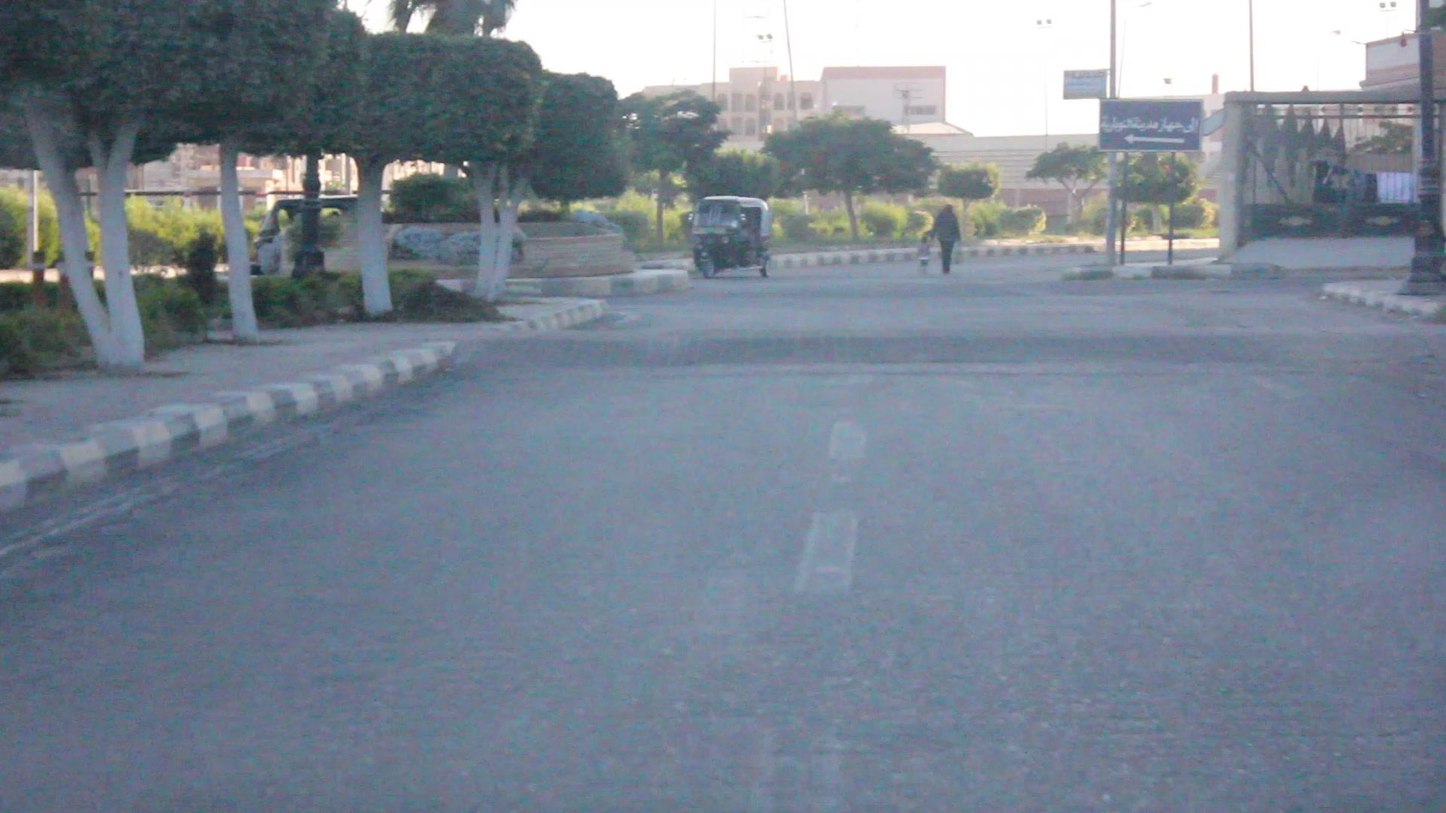Bump: (443, 326, 1445, 370)
